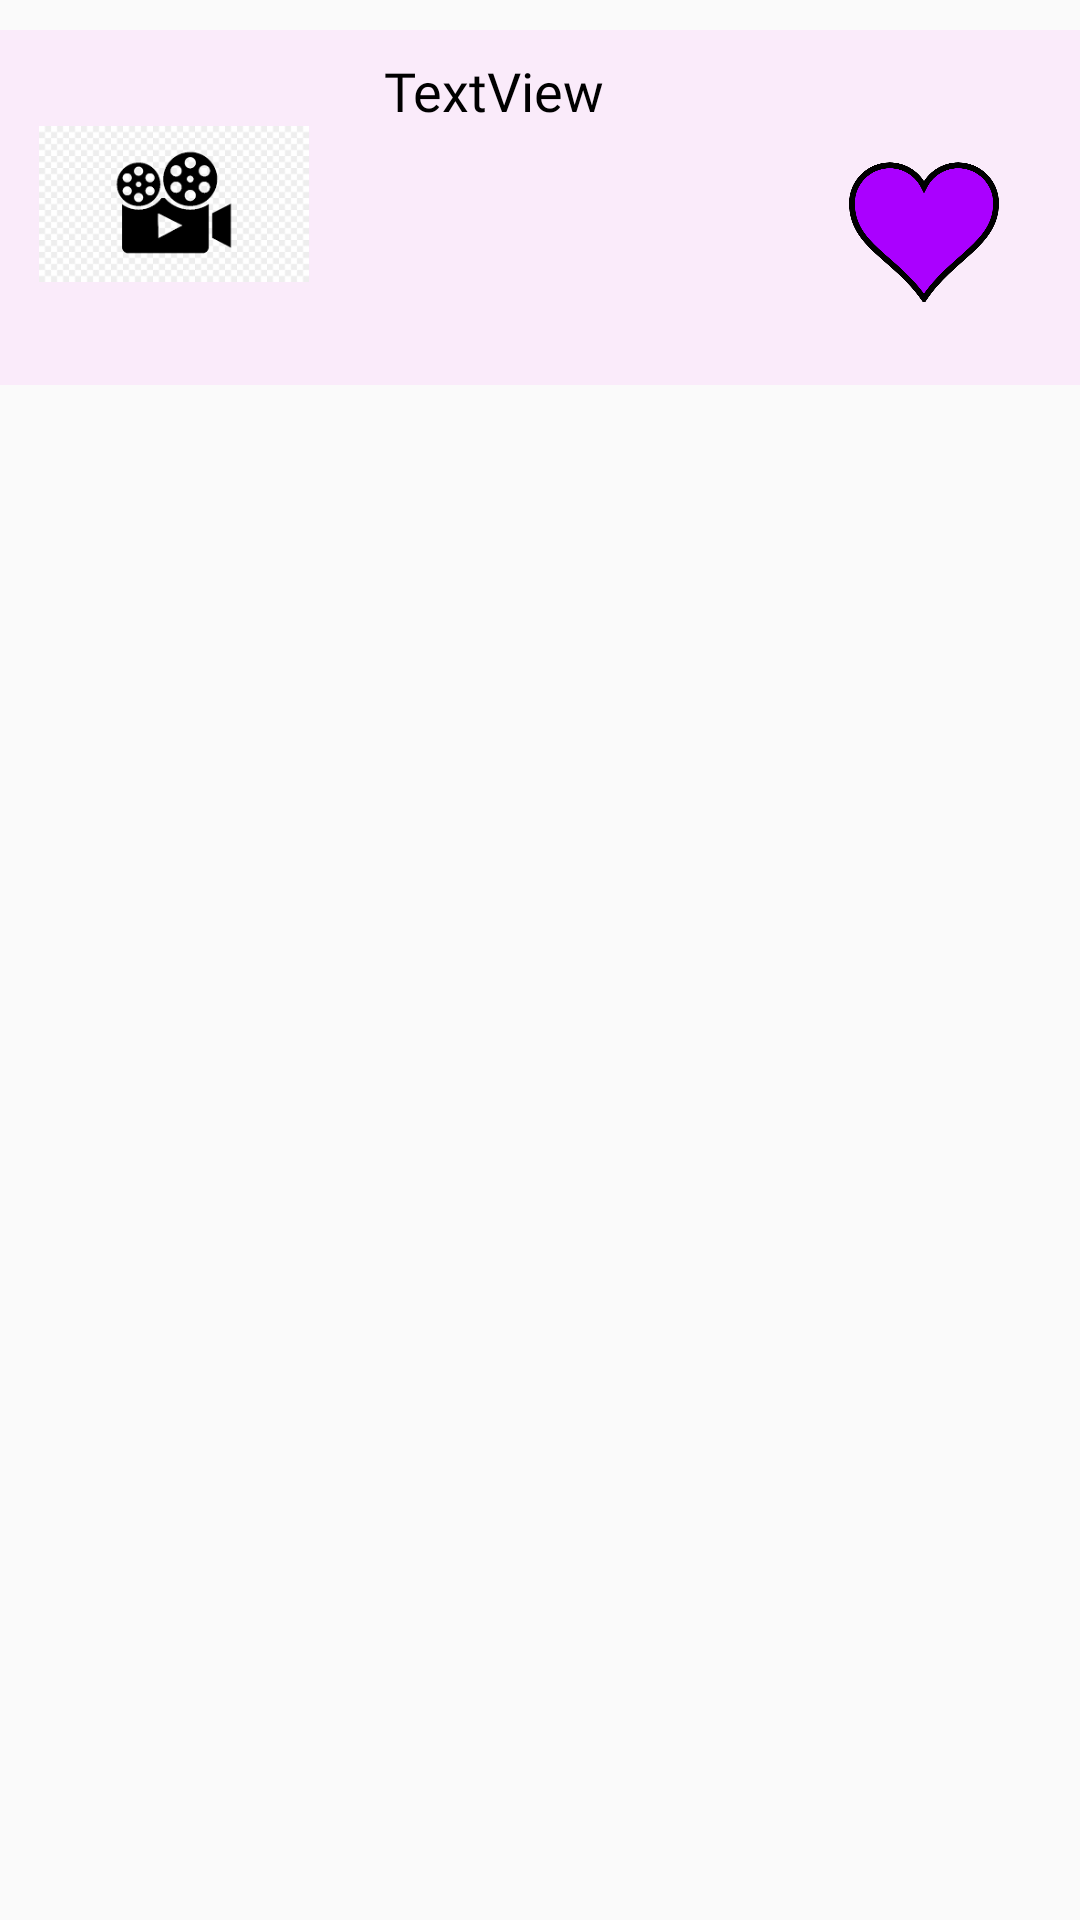

Icon click points for this 1080x1920 phone screenshot, format [x,y]:
love it: [924,232]
movie: [174,202]
